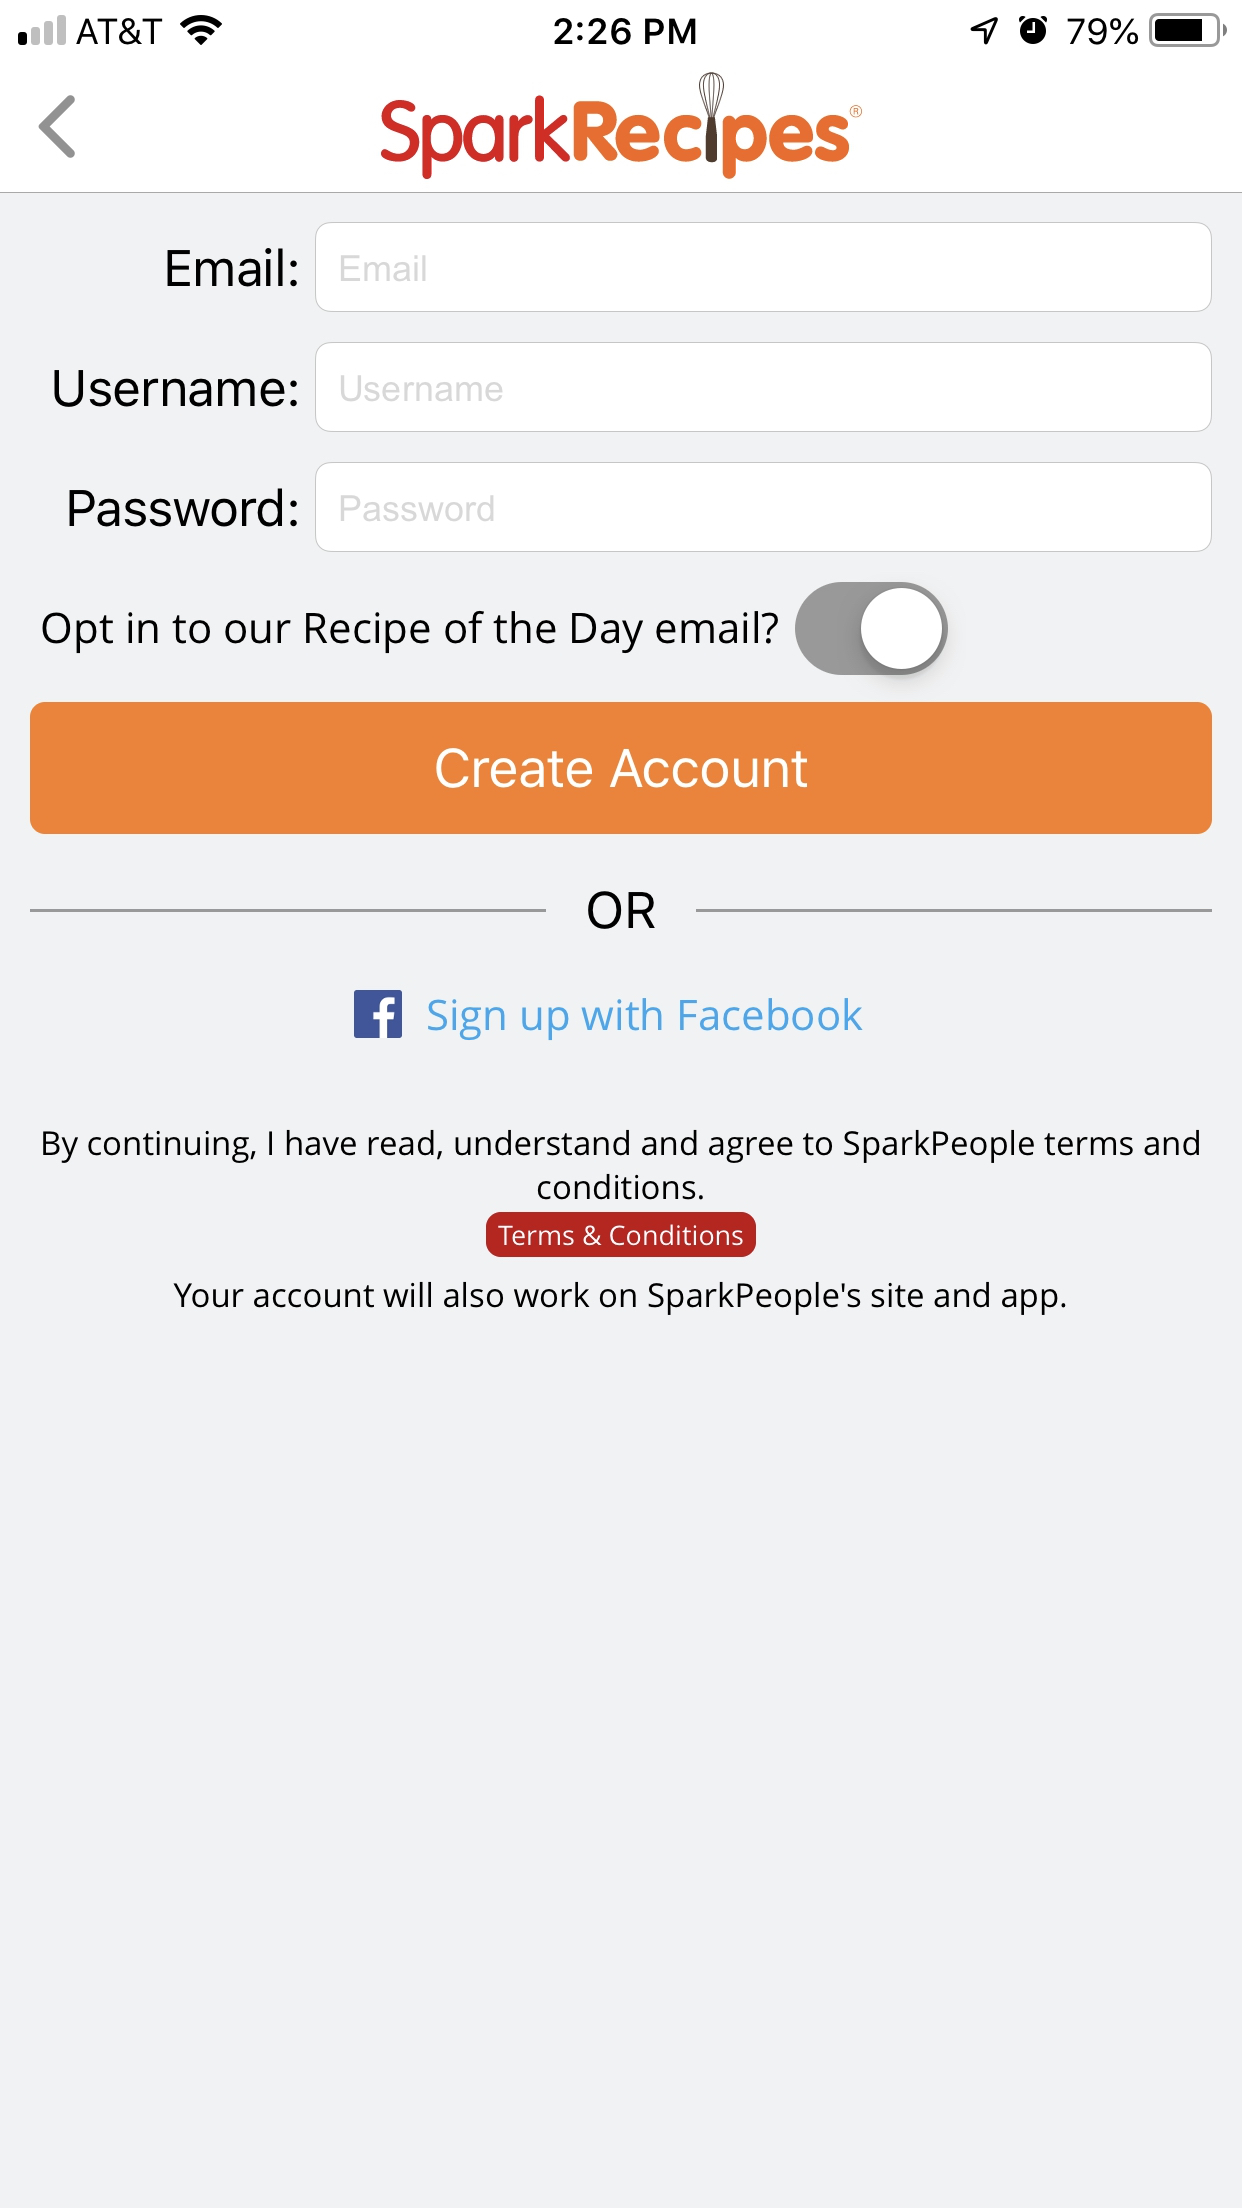EditText: (315, 463, 1213, 554), (315, 343, 1213, 434), (315, 221, 1213, 312)
Icon: (353, 990, 403, 1039), (39, 96, 76, 159)
Image: (381, 71, 863, 180)
Switch: (795, 582, 949, 676)
Text: (42, 1128, 1200, 1201), (42, 611, 779, 655), (173, 1281, 1066, 1316), (428, 998, 864, 1042), (55, 370, 299, 408), (70, 488, 299, 528), (167, 249, 299, 288), (341, 494, 494, 525), (341, 376, 503, 403), (341, 253, 428, 282), (587, 892, 654, 927)
TextButton: (30, 701, 1213, 836), (485, 1212, 757, 1259)
UpperTaskBar: (2, 2, 1242, 49)
